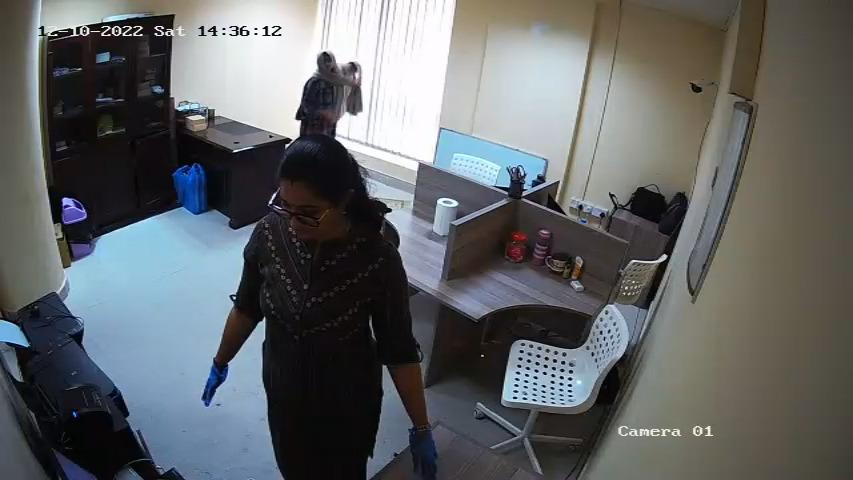gloves: (192, 354, 236, 406), (404, 423, 441, 478)
